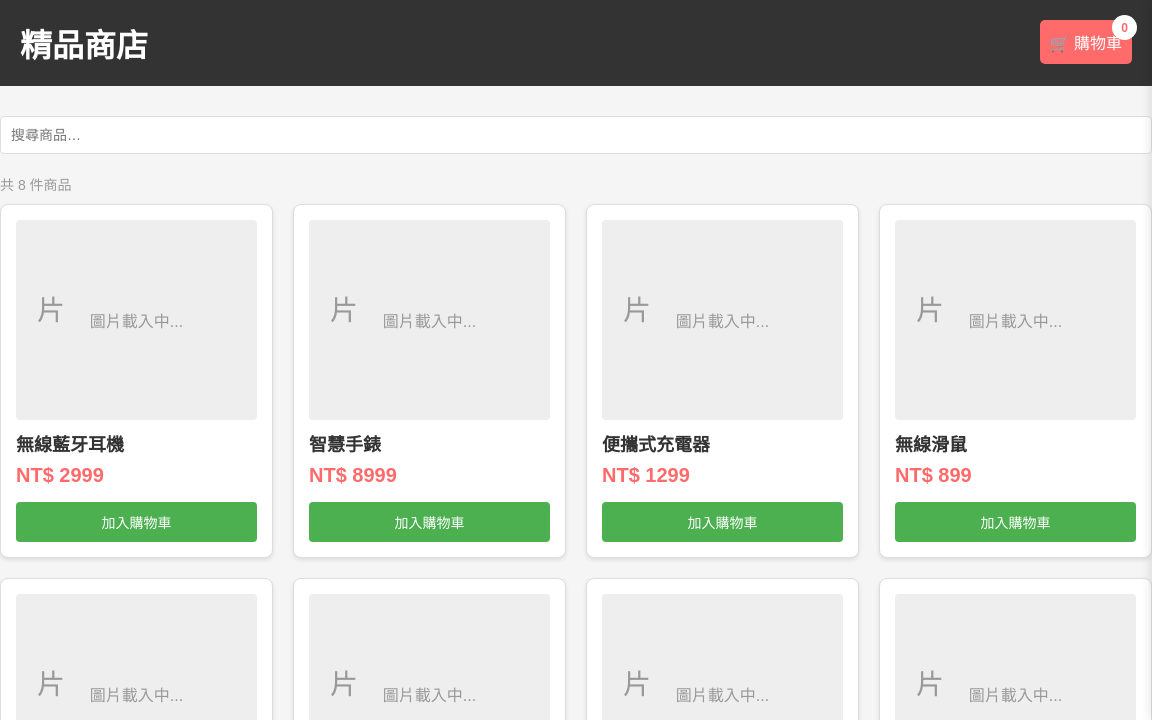
Ticket 06: change quantity repeatedly or type it directly › accepts a typed quantity and clamps it to 99
Click the button "加入購物車" below "NT$ 2999". click: (136, 522)
box: [16,502,257,542]
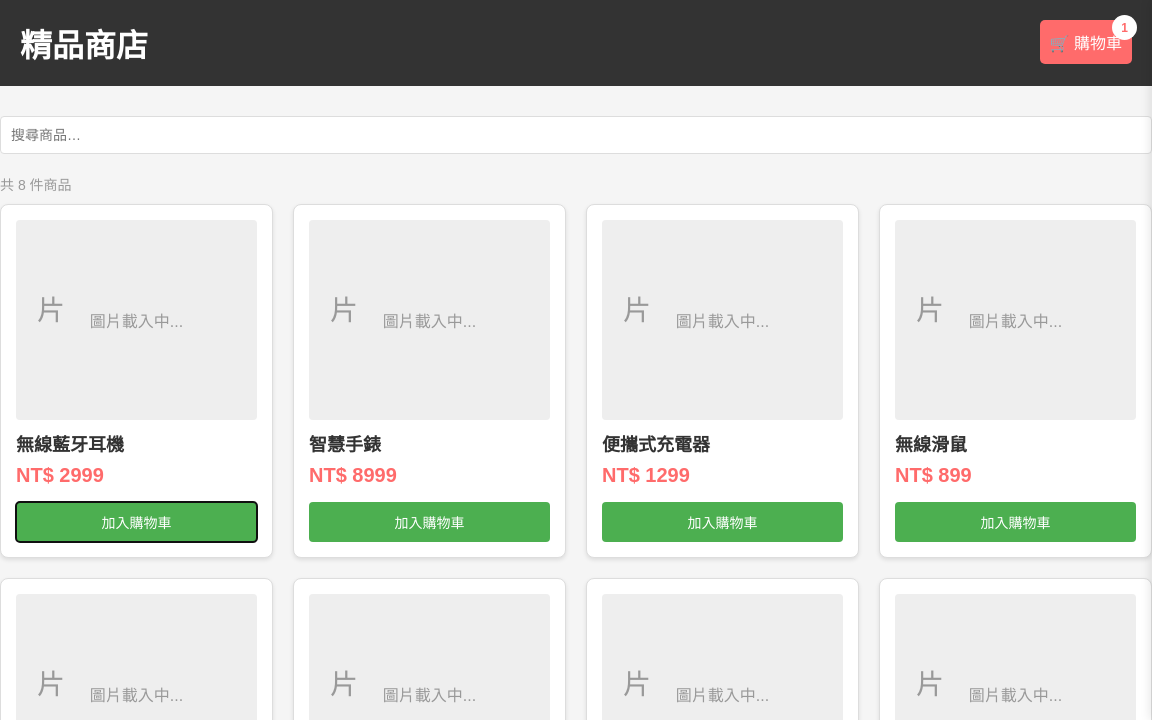
Click the button with aria-label "開啟購物車". click: (1086, 42)
box: [1040,20,1132,64]
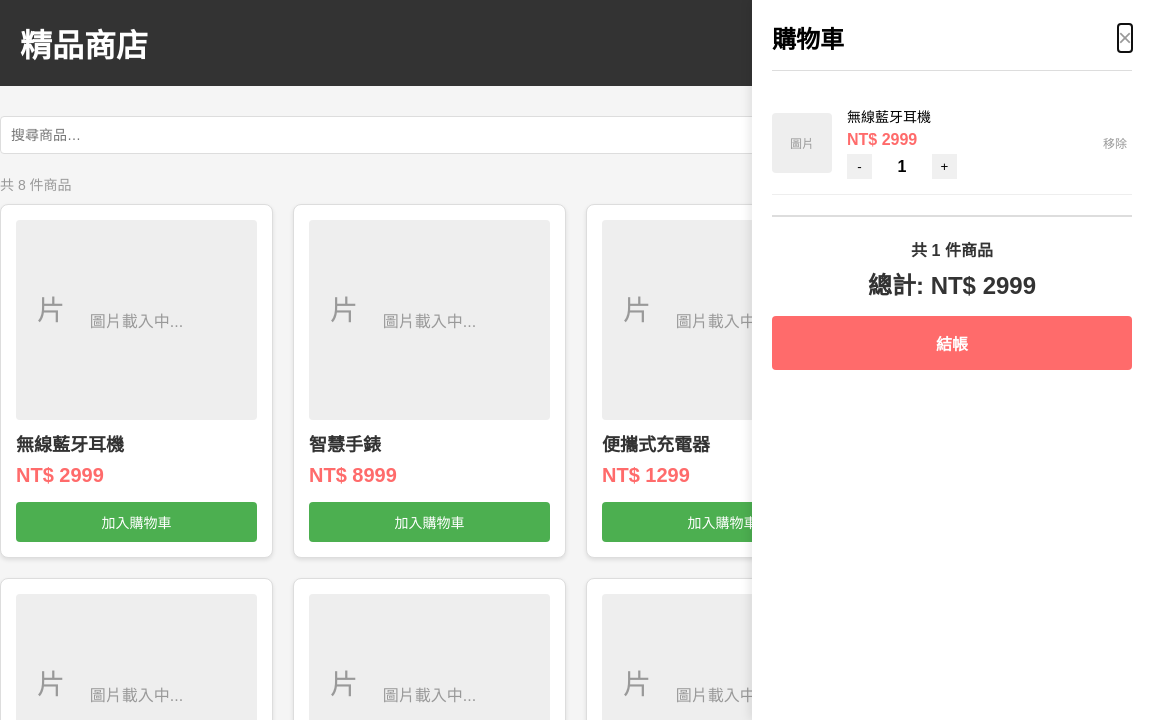
Replace the text in the number field named "無線藍牙耳機 數量" with "7". click: (902, 166)
box: [882,158,922,176]
Then press Enter
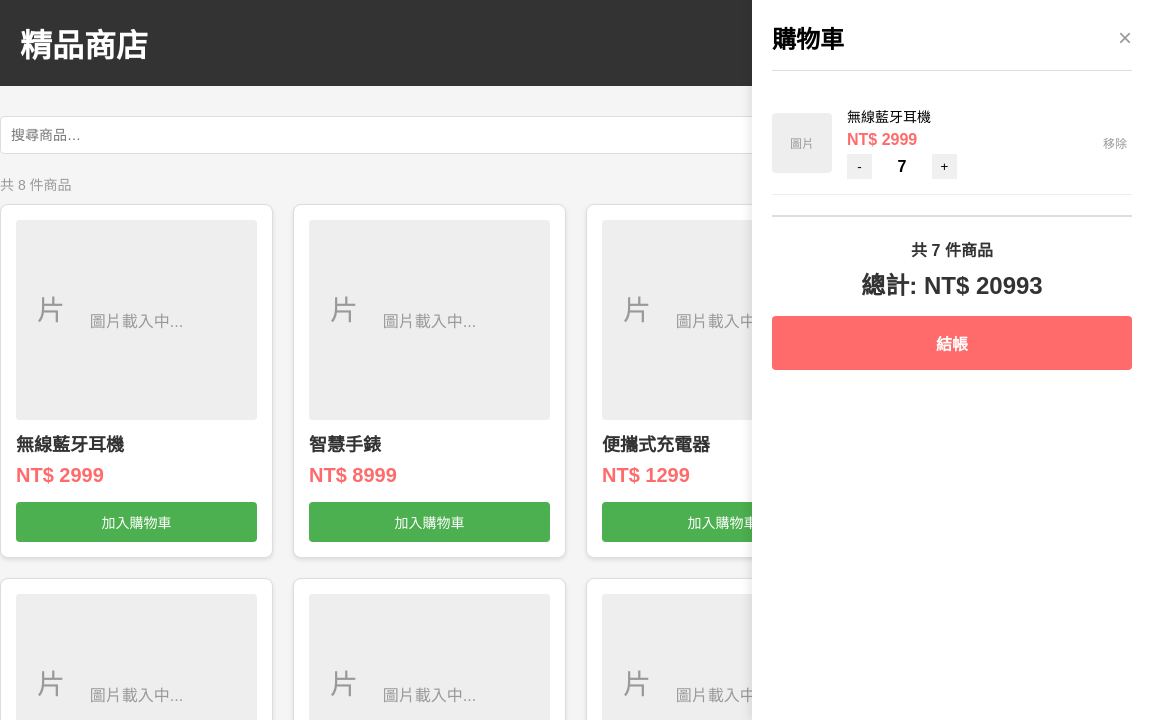
Expected: the dialog "購物車" shows "共 7 件商品", [752,0,1151,719]
Replace the text in the number field named "無線藍牙耳機 數量" with "250". click: (902, 166)
box: [882,158,922,176]
Then press Enter
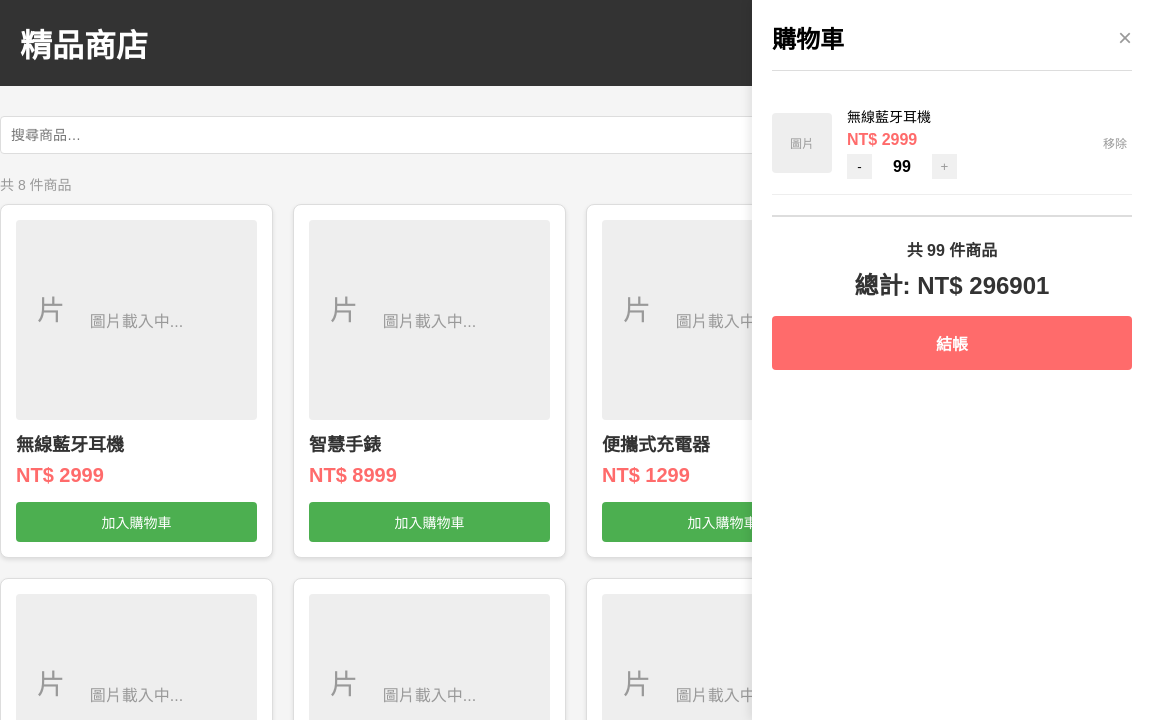
Expected: the number field named "無線藍牙耳機 數量" holds "99", [882,158,922,176]
Expected: the dialog "購物車" shows "共 99 件商品", [752,0,1151,719]
